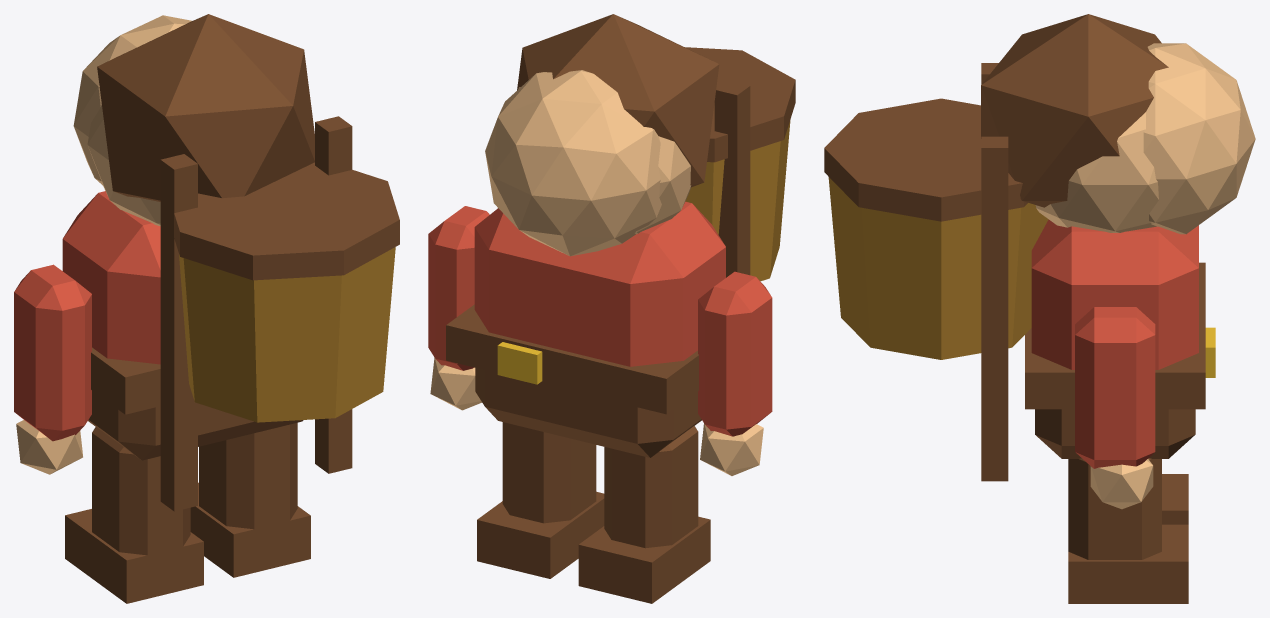
Rendered from courier.fbx.
3 views of the same model, side by side, from view 1: azimuth 30°, elevation 25°; view 2: azimuth 150°, elevation 25°; view 3: azimuth 270°, elevation 25° (orthographic). The views are drawn at different scales.
Parts seen in each view (by area): view 1: courier, Leg_R, Arm_R, Leg_L; view 2: courier, Leg_R, Leg_L, Arm_R, Arm_L; view 3: courier, Arm_L, Leg_L, Leg_R.
Boxes of the visible parts, x1,y1,x2,y2 form: courier: [62, 14, 399, 511]; Leg_R: [65, 427, 203, 603]; Arm_R: [14, 264, 91, 474]; Leg_L: [190, 422, 310, 577]; courier: [446, 14, 795, 457]; Leg_R: [578, 426, 710, 603]; Leg_L: [477, 422, 604, 578]; Arm_R: [698, 271, 772, 475]; Arm_L: [428, 206, 489, 410]; courier: [824, 14, 1255, 481]; Arm_L: [1075, 307, 1155, 509]; Leg_L: [1068, 458, 1188, 603]; Leg_R: [1162, 474, 1188, 524].
Bounding box in the file's own units: 0.1151 × 0.1802 × 0.129.
